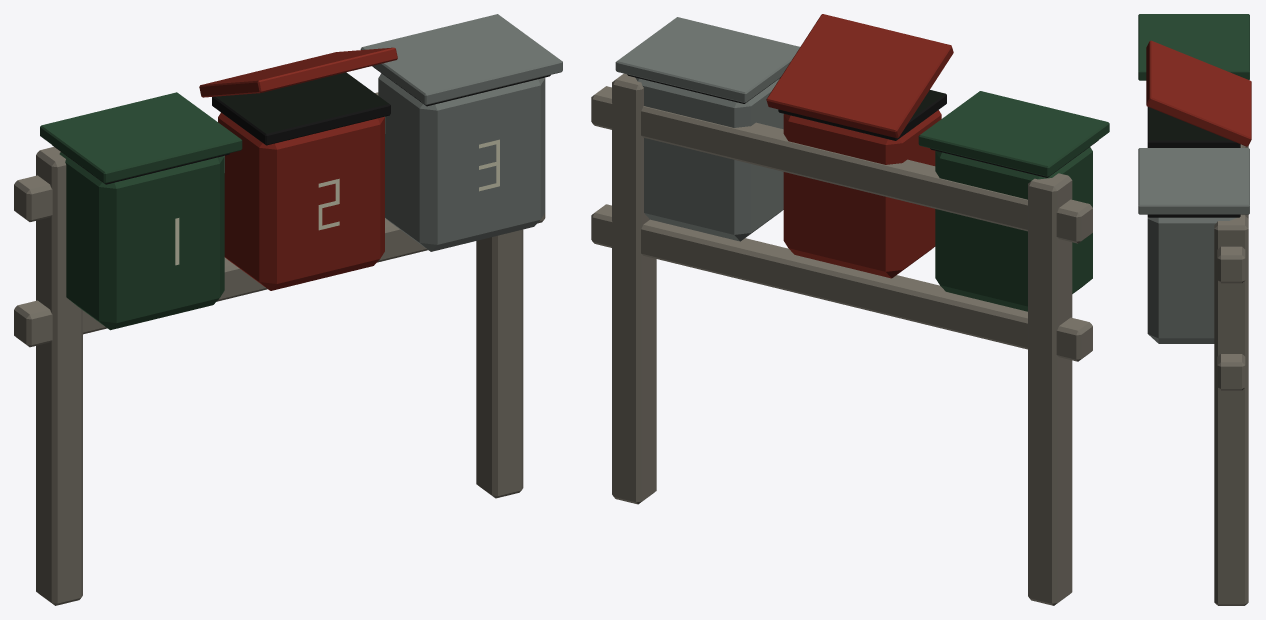
Rendered from postkasser.glb.
The picture shows the model from 3 angles, left to right: view 1: azimuth 30°, elevation 25°; view 2: azimuth 150°, elevation 25°; view 3: azimuth 270°, elevation 25°; orthographic projection. The views are drawn at different scales.
Parts seen in each view (by area): view 1: postkasser; view 2: postkasser; view 3: postkasser.
Part boxes in pixels (bbox=[...]): postkasser: bbox=[14, 14, 562, 605]; postkasser: bbox=[591, 14, 1109, 605]; postkasser: bbox=[1138, 14, 1251, 605].
Bounding box in the file's own units: 1.65 × 1.56 × 0.3654.
